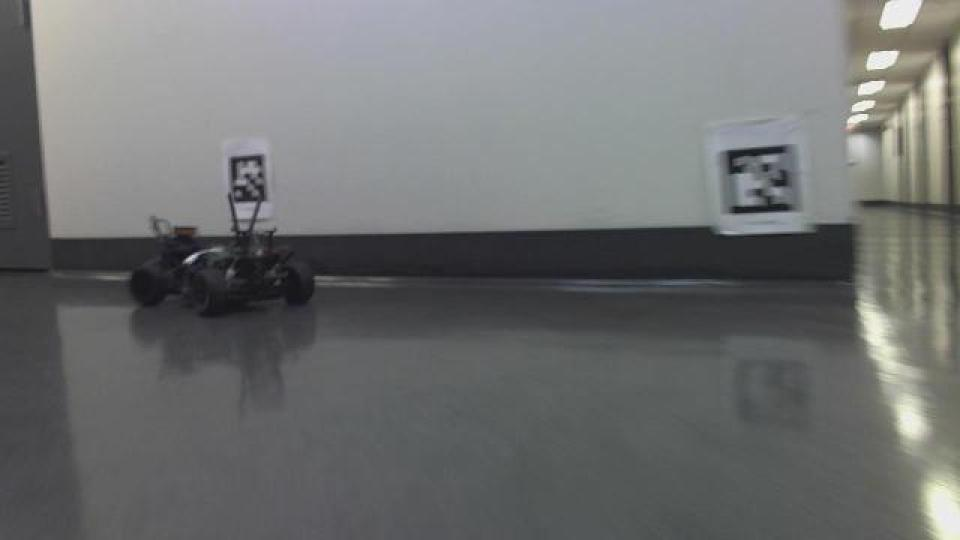car: (130, 195, 318, 316)
